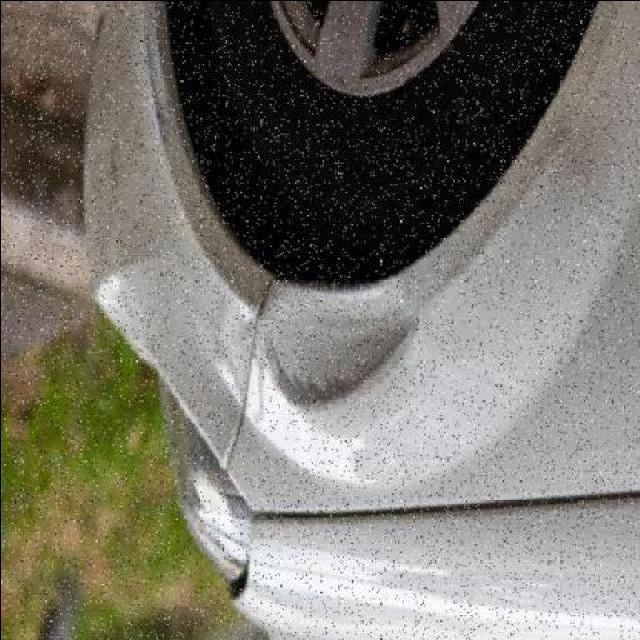fender-dent: (254, 69, 640, 522)
front-bumper-dent: (75, 0, 256, 453)
